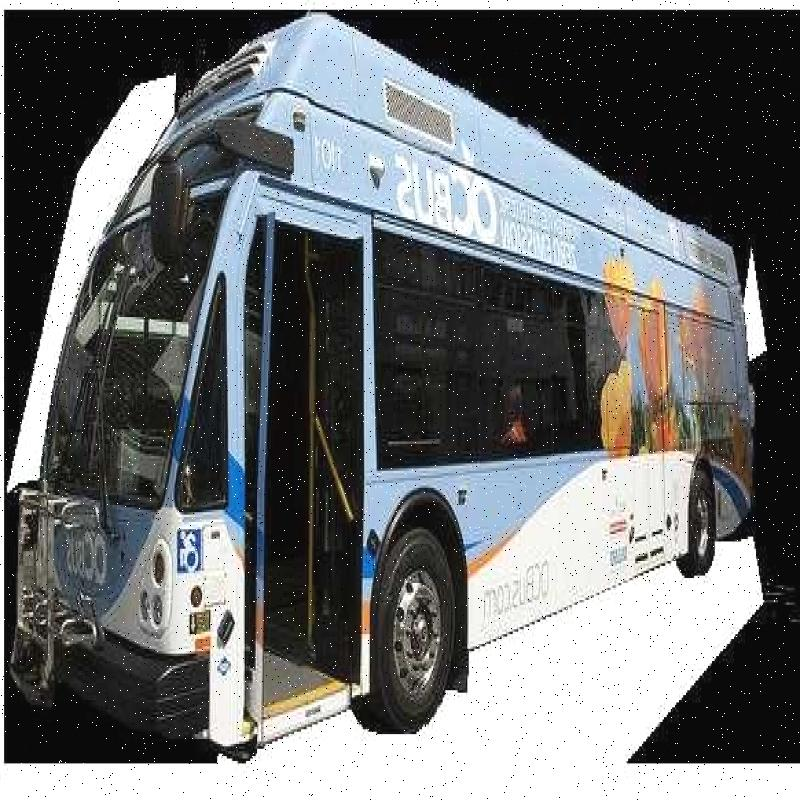bus: (0, 7, 762, 800)
